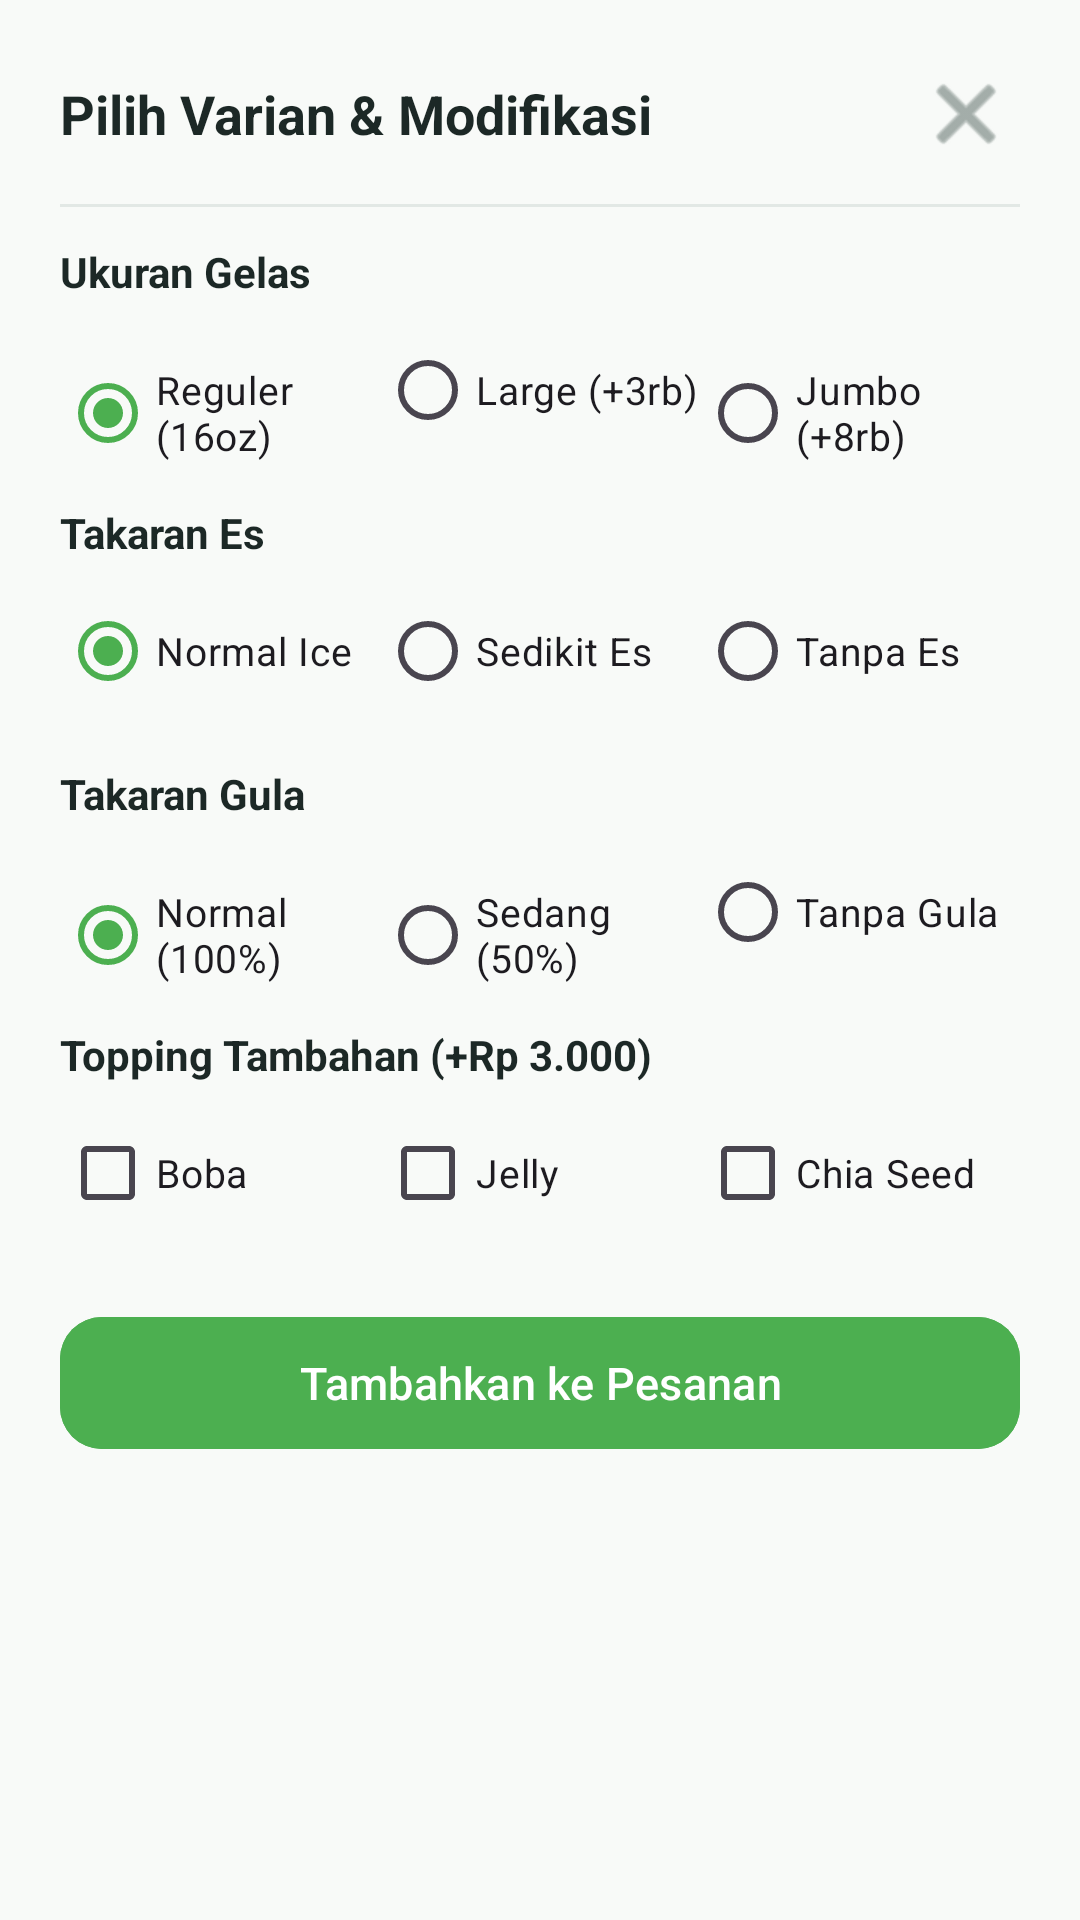

Icon bounding boxes for this 1080x1920 phone screenshot, format {"x1": x1, "y1": y1, "x2": x2, "y2": y2}:
close clear cancel: {"x1": 936, "y1": 84, "x2": 996, "y2": 144}
